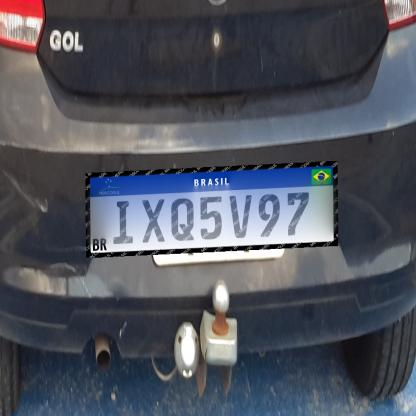PlacaM: (86, 161, 338, 258)
